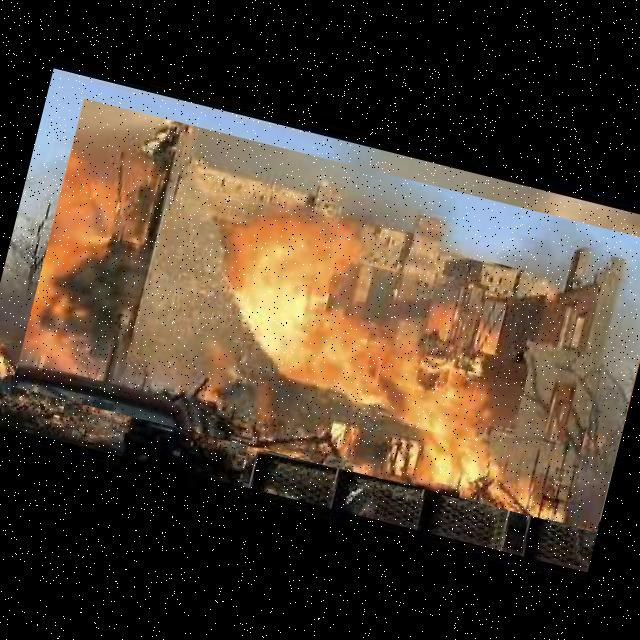fire: (12, 98, 640, 532)
